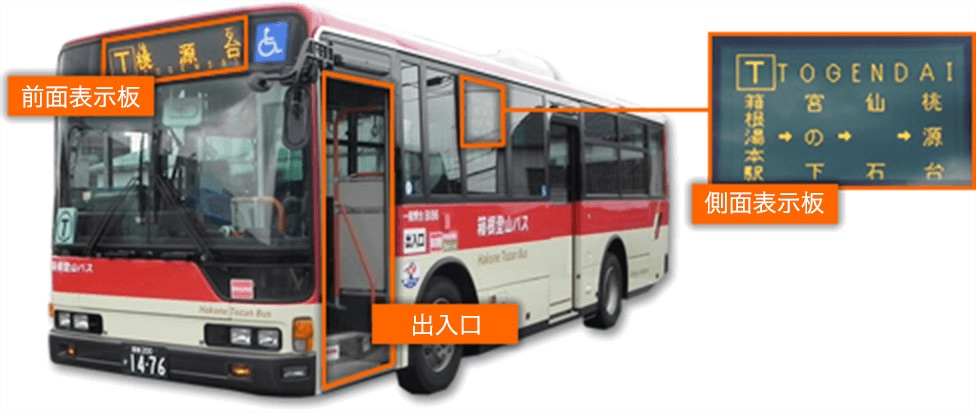destination: (104, 21, 242, 77)
